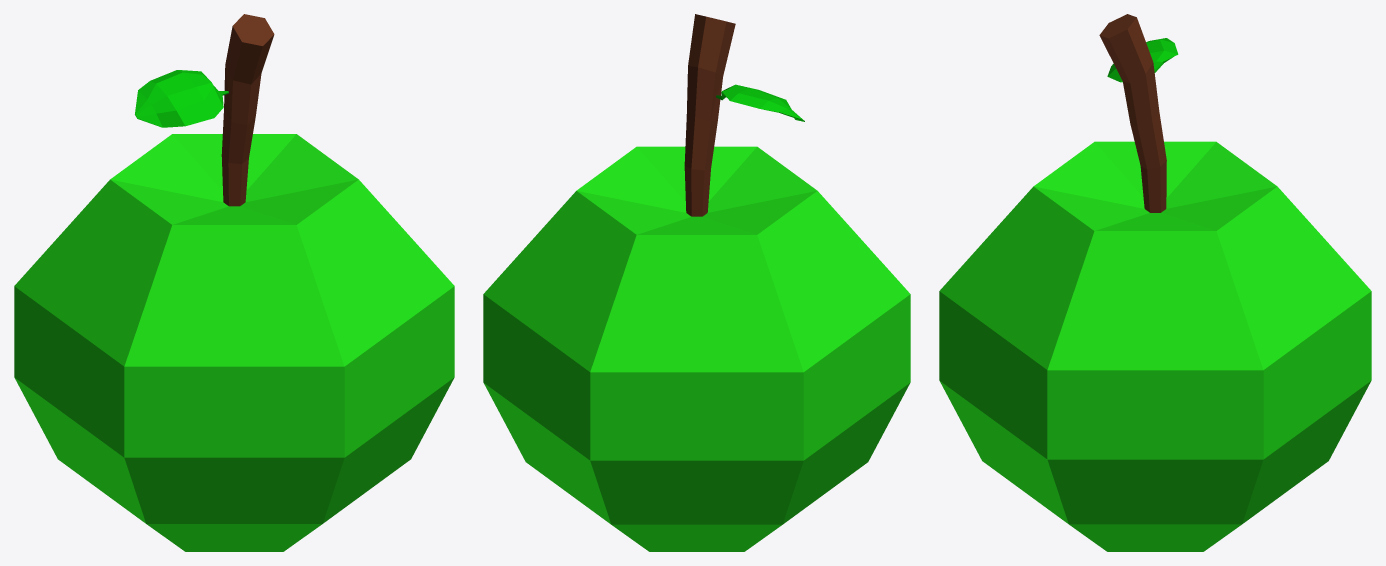
The model's file is low_poly_apple.glb.
3 renders of one model, left to right at view 1: azimuth 30°, elevation 25°; view 2: azimuth 150°, elevation 25°; view 3: azimuth 270°, elevation 25°, orthographic. The views are drawn at different scales.
Visible parts, largest first — view 1: Esfera; view 2: Esfera; view 3: Esfera.
Part boxes in pixels (box(x1,y1,x2,y2)): Esfera: box(14, 14, 454, 551); Esfera: box(483, 14, 910, 551); Esfera: box(939, 14, 1371, 551).
Bounding box in the file's own units: 1.69 × 2.49 × 1.95.
